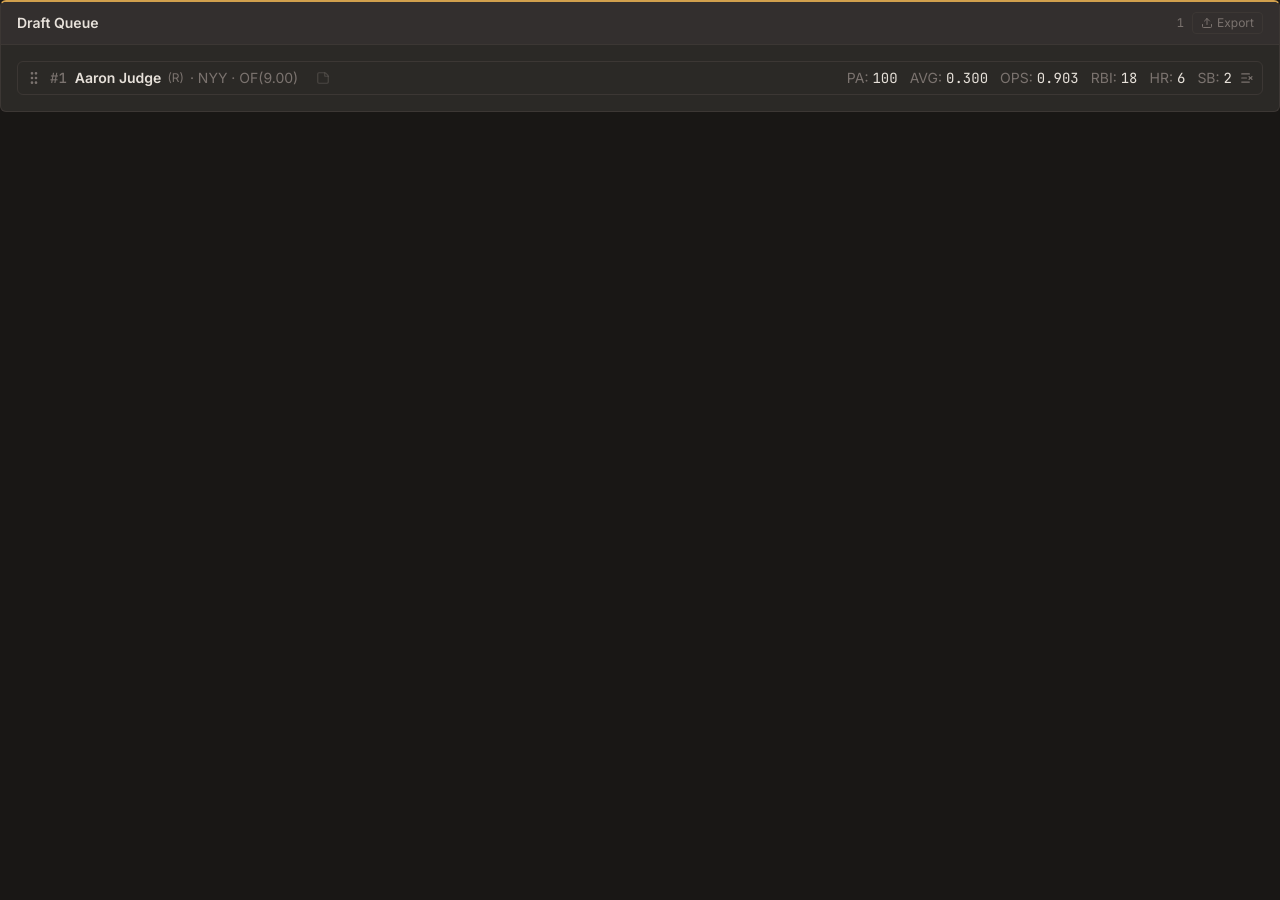
Test: DraftQueuePanel › should open confirm dialog when remove button clicked
Click the button named "Remove Aaron Judge from queue" at (1247, 78), box x1=1240 y1=71 x2=1254 y2=85
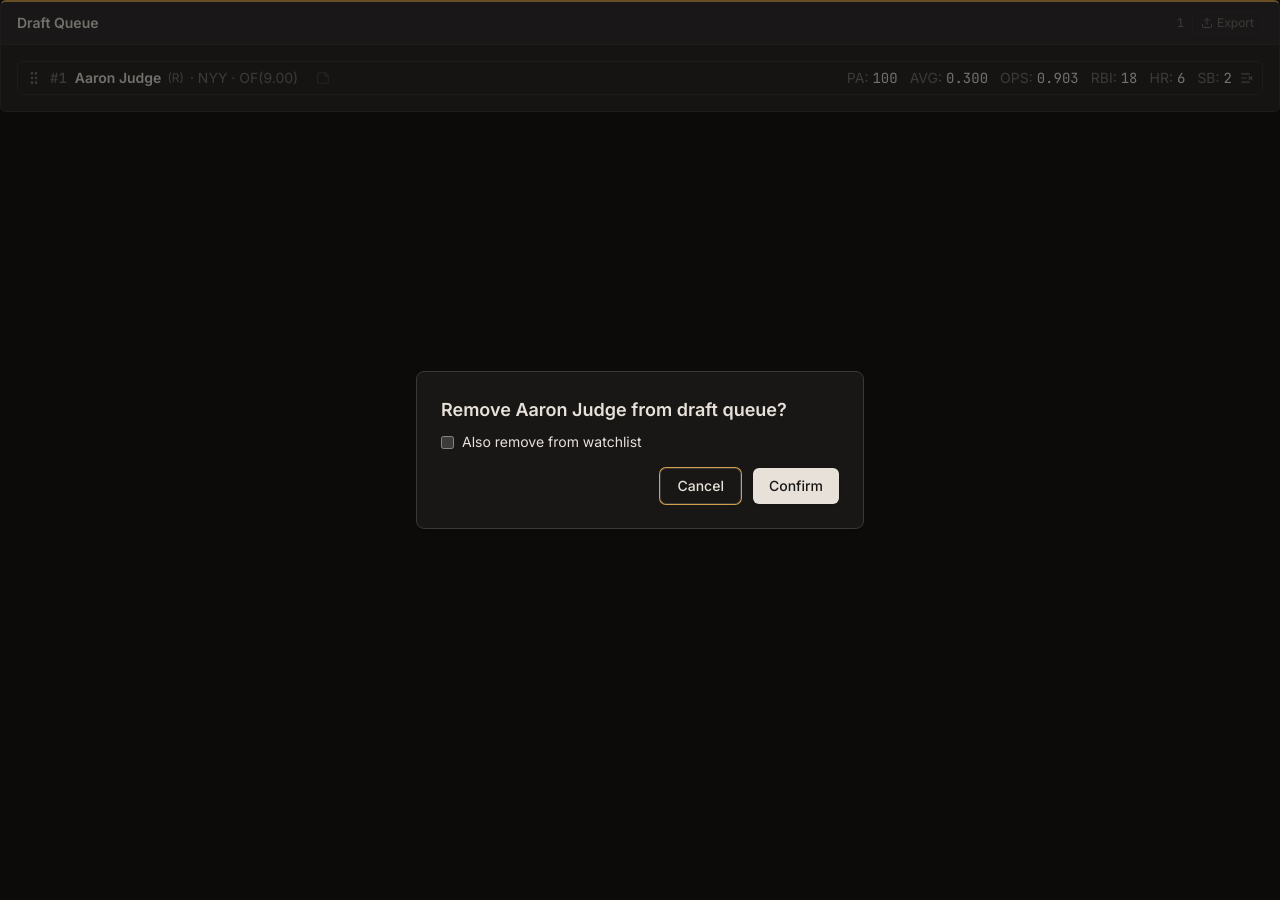
Now the heading "Remove Aaron Judge from draft queue?" is shown, box x1=441 y1=396 x2=839 y2=424
